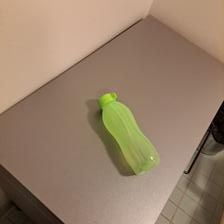bottle: (95, 88, 163, 177)
